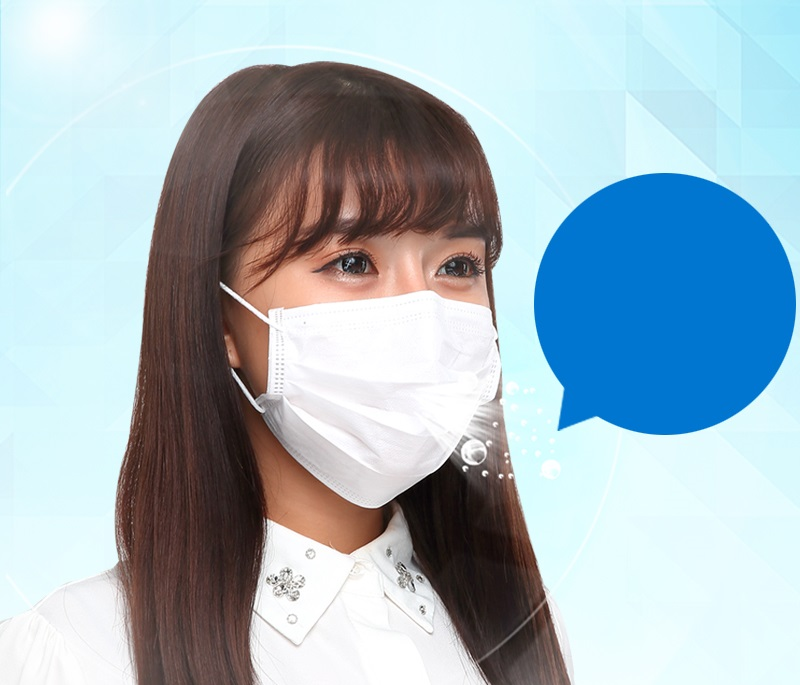face_mask: (254, 159, 497, 507)
